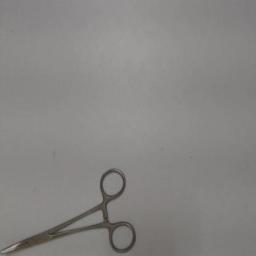Crile Artery Forceps: (1, 164, 139, 254)
